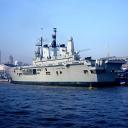Portanaves: (2, 25, 128, 88)
